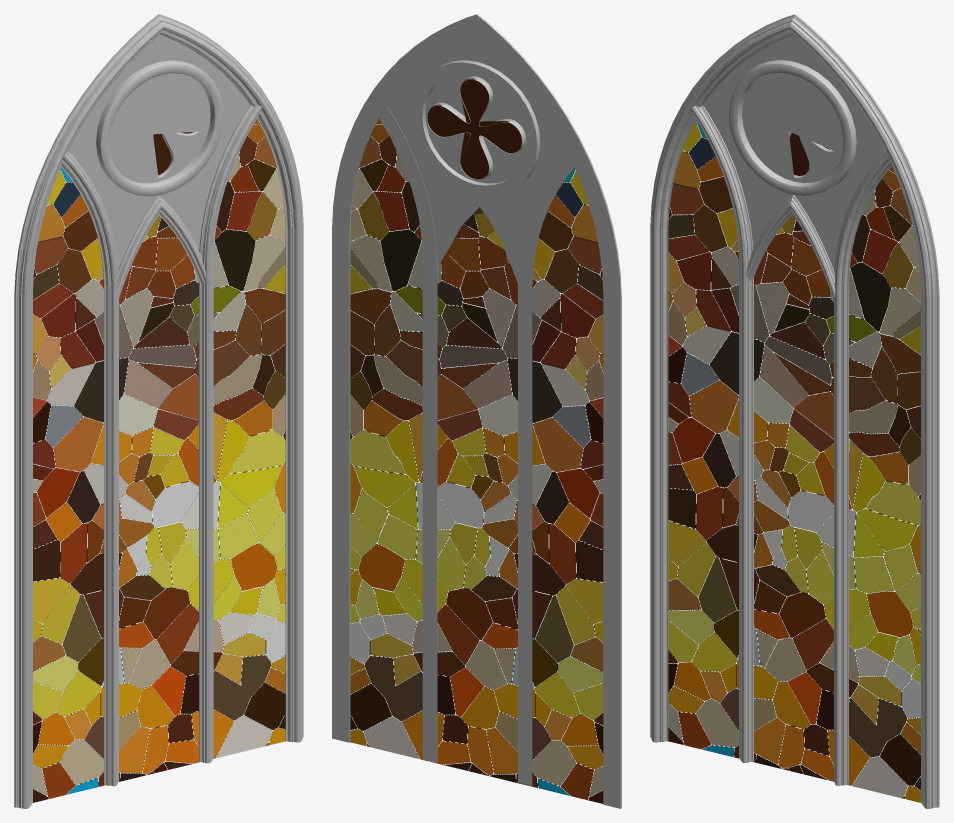
File: stainedglass.fbx
3 views of the same model, side by side, from view 1: azimuth 30°, elevation 25°; view 2: azimuth 150°, elevation 25°; view 3: azimuth 330°, elevation 25° (orthographic).
Visible parts, largest first — view 1: Vert.016; view 2: Vert.016; view 3: Vert.016.
Boxes of the visible parts, left/top/right/bottom form: Vert.016: left=14, top=14, right=303, bottom=808; Vert.016: left=332, top=14, right=621, bottom=808; Vert.016: left=650, top=14, right=939, bottom=808.
Bounding box in the file's own units: 489 × 1230 × 23.05.
